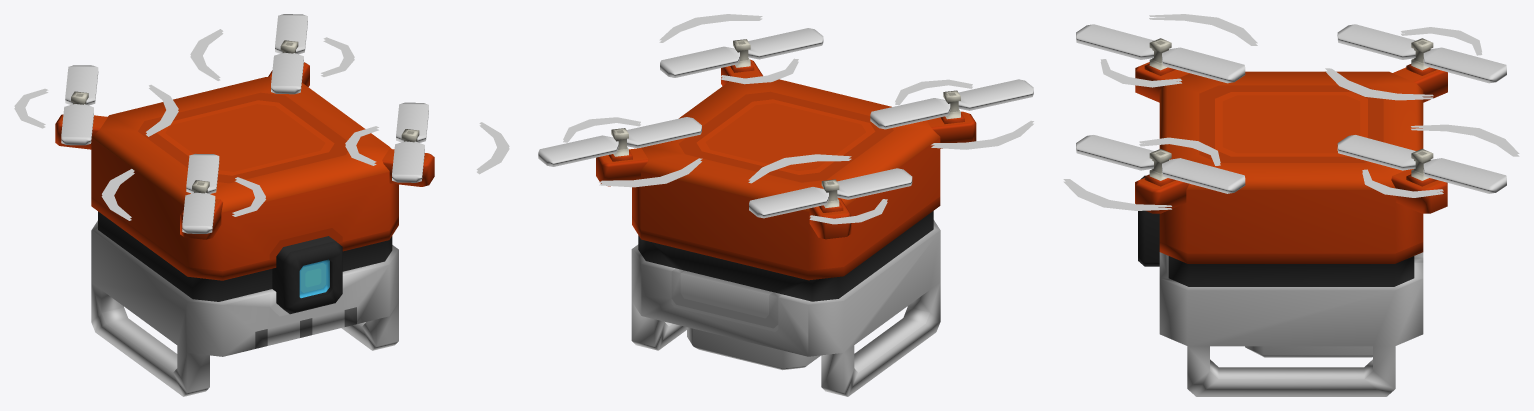
File: drone.fbx
The picture shows the model from 3 angles, left to right: view 1: azimuth 30°, elevation 25°; view 2: azimuth 150°, elevation 25°; view 3: azimuth 270°, elevation 25°; orthographic projection. The views are drawn at different scales.
Parts seen in each view (by area): view 1: model, propera3, propera4, propera1, propera2, effect2, effect3, effect4, effect1; view 2: model, propera4, propera1, propera2, propera3, effect1, effect2, effect3, effect4, effect7, effect8, effect6 (+1 smaller); view 3: model, propera2, propera3, propera4, propera1, effect3, effect2, effect4, effect1, effect8, effect5, effect7 (+1 smaller).
Part boxes in pixels (x1=…): model: x1=55, y1=40, x2=434, y2=396; propera3: x1=61, y1=65, x2=98, y2=145; propera4: x1=182, y1=153, x2=219, y2=233; propera1: x1=392, y1=102, x2=428, y2=182; propera2: x1=271, y1=14, x2=307, y2=94; effect2: x1=190, y1=29, x2=354, y2=78; effect3: x1=14, y1=84, x2=178, y2=134; effect4: x1=102, y1=169, x2=265, y2=218; effect1: x1=345, y1=122, x2=509, y2=171; model: x1=596, y1=39, x2=976, y2=396; propera4: x1=870, y1=79, x2=1033, y2=129; propera1: x1=660, y1=28, x2=823, y2=77; propera2: x1=538, y1=117, x2=701, y2=166; propera3: x1=749, y1=168, x2=912, y2=218; effect1: x1=659, y1=14, x2=798, y2=81; effect2: x1=563, y1=117, x2=702, y2=184; effect3: x1=748, y1=154, x2=887, y2=221; effect4: x1=895, y1=79, x2=1033, y2=147; effect7: x1=748, y1=158, x2=887, y2=224; effect8: x1=895, y1=83, x2=1033, y2=149; effect6: x1=563, y1=120, x2=701, y2=187; model: x1=1135, y1=38, x2=1447, y2=396; propera2: x1=1337, y1=135, x2=1506, y2=193; propera3: x1=1337, y1=24, x2=1506, y2=83; propera4: x1=1076, y1=24, x2=1245, y2=83; propera1: x1=1076, y1=135, x2=1245, y2=193; effect3: x1=1325, y1=27, x2=1481, y2=97; effect2: x1=1362, y1=124, x2=1519, y2=195; effect4: x1=1100, y1=14, x2=1257, y2=84; effect1: x1=1063, y1=137, x2=1220, y2=208; effect8: x1=1100, y1=17, x2=1257, y2=87; effect5: x1=1063, y1=141, x2=1220, y2=210; effect7: x1=1325, y1=31, x2=1482, y2=100.
Size of what is drawn, in the model's own units: 3.08 by 2.15 by 3.05.
